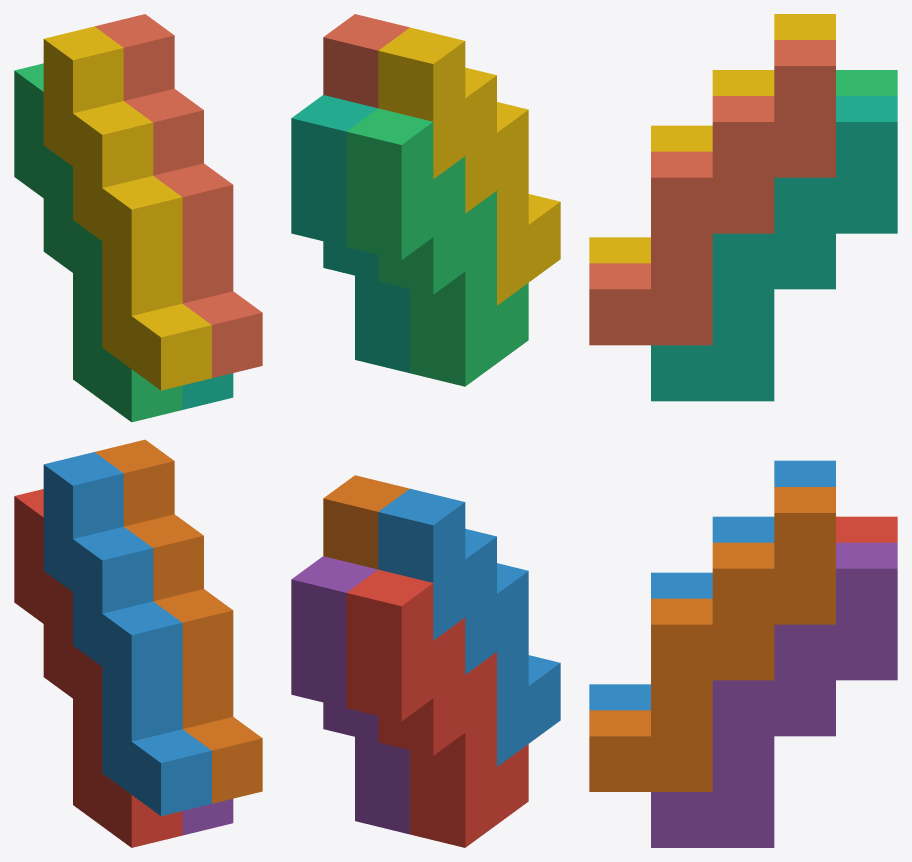
The model's file is tiling.obj.
The picture shows the model from 3 angles, left to right: view 1: azimuth 30°, elevation 25°; view 2: azimuth 150°, elevation 25°; view 3: azimuth 270°, elevation 25°; orthographic projection. The views are drawn at different scales.
Visible parts, largest first — view 1: copy_1_domain_2, copy_1_domain_4, copy_1_domain_6, copy_1_domain_8, copy_1_domain_3, copy_1_domain_1, copy_1_domain_7, copy_1_domain_5; view 2: copy_1_domain_3, copy_1_domain_1, copy_1_domain_2, copy_1_domain_4, copy_1_domain_5, copy_1_domain_7, copy_1_domain_6, copy_1_domain_8; view 3: copy_1_domain_8, copy_1_domain_6, copy_1_domain_7, copy_1_domain_5, copy_1_domain_2, copy_1_domain_4, copy_1_domain_1, copy_1_domain_3.
Part boxes in pixels (box(x1,y1,x2,y2)): copy_1_domain_2: box(43, 452, 211, 816); copy_1_domain_4: box(43, 26, 211, 390); copy_1_domain_6: box(95, 439, 262, 803); copy_1_domain_8: box(95, 14, 262, 377); copy_1_domain_3: box(14, 63, 182, 422); copy_1_domain_1: box(14, 489, 182, 847); copy_1_domain_7: box(182, 373, 233, 409); copy_1_domain_5: box(182, 799, 233, 835); copy_1_domain_3: box(346, 108, 528, 386); copy_1_domain_1: box(346, 569, 528, 847); copy_1_domain_2: box(378, 488, 560, 766); copy_1_domain_4: box(378, 27, 560, 305); copy_1_domain_5: box(291, 556, 409, 834); copy_1_domain_7: box(291, 95, 409, 373); copy_1_domain_6: box(323, 475, 409, 569); copy_1_domain_8: box(323, 14, 409, 108); copy_1_domain_8: box(589, 40, 835, 345); copy_1_domain_6: box(589, 487, 835, 791); copy_1_domain_7: box(651, 96, 897, 401); copy_1_domain_5: box(651, 542, 897, 847); copy_1_domain_2: box(589, 460, 835, 710); copy_1_domain_4: box(589, 14, 835, 263); copy_1_domain_1: box(836, 516, 897, 542); copy_1_domain_3: box(836, 70, 897, 95).
Bounding box in the file's own units: 2 × 14 × 5.
